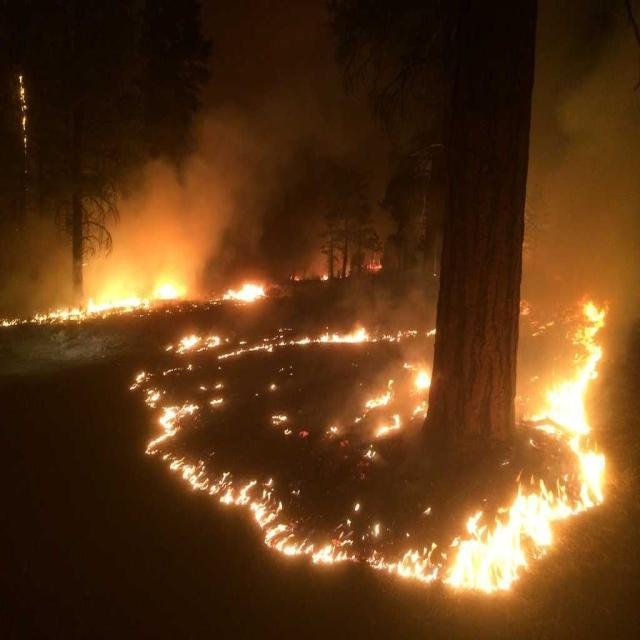Fire: (461, 545, 515, 587), (554, 385, 585, 428), (524, 496, 548, 546)
